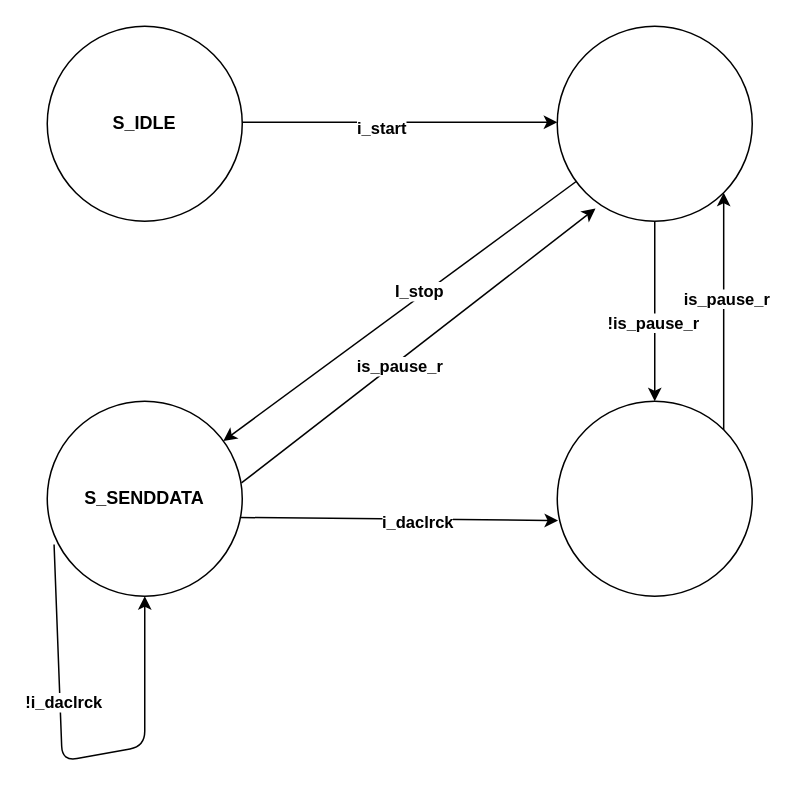
Image size: 797x800. Some labels were removed from this diagram. The shapes that lost their labels are listed below. From the top down, each one's centre as x and y in pixels, then its label:
At pixel 654 123: "S_PAUSE".
At pixel 654 498: "S_GETDATA".
